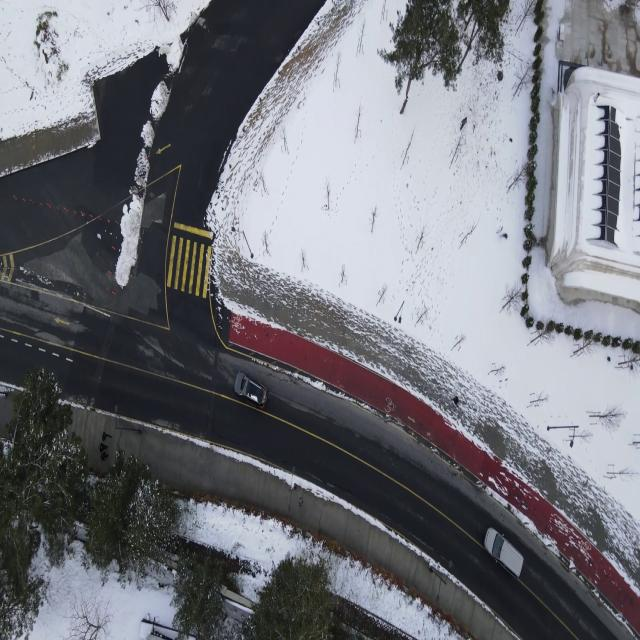p3rson: (459, 116, 467, 131), (102, 430, 112, 441), (99, 442, 108, 452), (100, 450, 109, 460), (451, 395, 459, 405)
